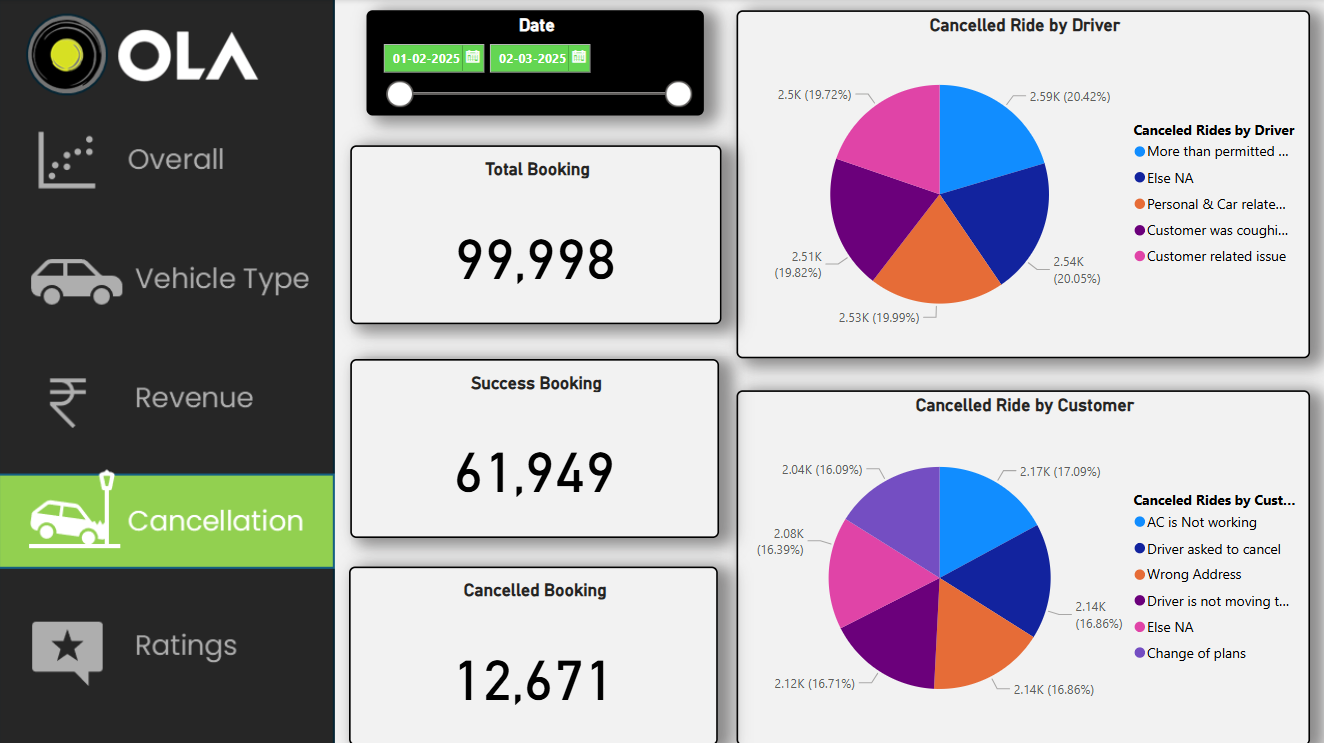

Layout of this report page (visuals, bound fields, positions):
{"tool":"powerbi","page":{"name":"cancellation","canvas":[1280,720],"ordinal":3},"visuals":[{"type":"pieChart","title":"Cancelled Ride by Driver","fields":{"Category":["Sheet1.Canceled Rides by Driver"],"Y":["CountNonNull(Sheet1.Canceled Rides by Driver)"]},"box":[711.9,10.7,553.5,336.4],"z":0},{"type":"pieChart","title":"Cancelled Ride by Customer","fields":{"Category":["Sheet1.Canceled Rides by Customer"],"Y":["CountNonNull(Sheet1.Canceled Rides by Customer)"]},"box":[711.9,377.3,553.5,343.5],"z":1000},{"type":"slicer","title":"Date","fields":{"Values":["Sheet1.Date"]},"box":[354.2,10.7,325.7,101.4],"z":2000},{"type":"card","title":"Success Booking","fields":{"Values":["Count(Sheet1.Booking ID)"]},"box":[339.4,347.8,356.3,172.9],"z":3000},{"type":"card","title":"Total Booking","fields":{"Values":["Count(Sheet1.Booking ID)"]},"box":[339.4,141.2,358.4,172.9],"z":4000},{"type":"card","title":"Cancelled Booking","fields":{"Values":["Count(Sheet1.Booking ID)"]},"box":[337.3,548.1,356.3,172.9],"z":5000}]}

Visuals, with their boxes on the page's 1280x720 design canvas (x1, y1, x2, y2). These are canvas units, not pixel positions in the 1324x743 screenshot, which may show the page scaled, cropped or inside an application window:
"Cancelled Ride by Driver" pieChart: box=[712, 11, 1265, 347]
"Cancelled Ride by Customer" pieChart: box=[712, 377, 1265, 721]
"Date" slicer: box=[354, 11, 680, 112]
"Success Booking" card: box=[339, 348, 696, 521]
"Total Booking" card: box=[339, 141, 698, 314]
"Cancelled Booking" card: box=[337, 548, 694, 721]
